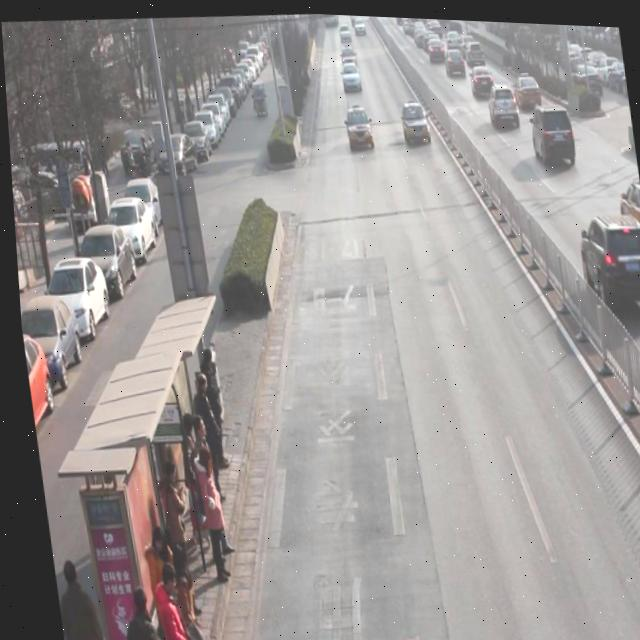car: (572, 203, 640, 312), (526, 96, 576, 165), (613, 167, 640, 242), (485, 75, 520, 126), (397, 95, 430, 144), (342, 99, 373, 148), (511, 64, 542, 106), (570, 55, 603, 91), (468, 61, 496, 96), (338, 57, 362, 93), (443, 42, 467, 76), (464, 35, 486, 63), (426, 34, 445, 62), (338, 40, 355, 60), (337, 20, 352, 40), (353, 13, 367, 34)
